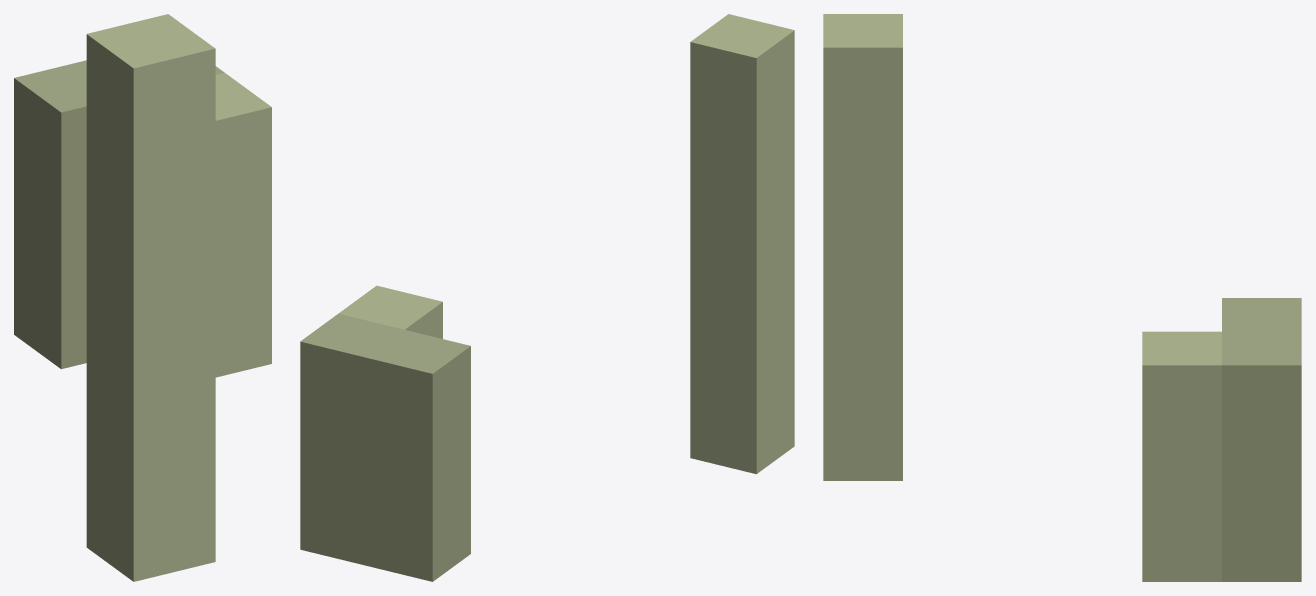
File: tomillo_04.glb
3 renders of one model, left to right at view 1: azimuth 30°, elevation 25°; view 2: azimuth 150°, elevation 25°; view 3: azimuth 270°, elevation 25°, orthographic. The views are drawn at different scales.
Parts seen in each view (by area): view 1: tomillo_04; view 2: tomillo_04; view 3: tomillo_04.
Boxes of the visible parts, x1,y1,x2,y2 form: tomillo_04: (14, 14, 271, 581); tomillo_04: (300, 14, 794, 581); tomillo_04: (823, 14, 1301, 581).
Bounding box in the file's own units: 0.4 × 0.6 × 0.6.
